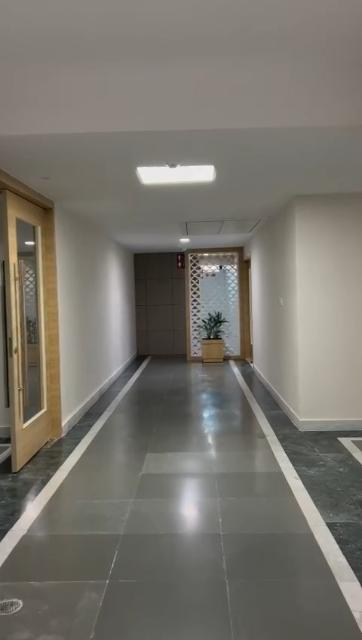door: (4, 194, 60, 458)
floor: (0, 360, 362, 640)
object: (190, 308, 236, 366)
wall: (257, 192, 362, 420), (56, 213, 142, 415)
